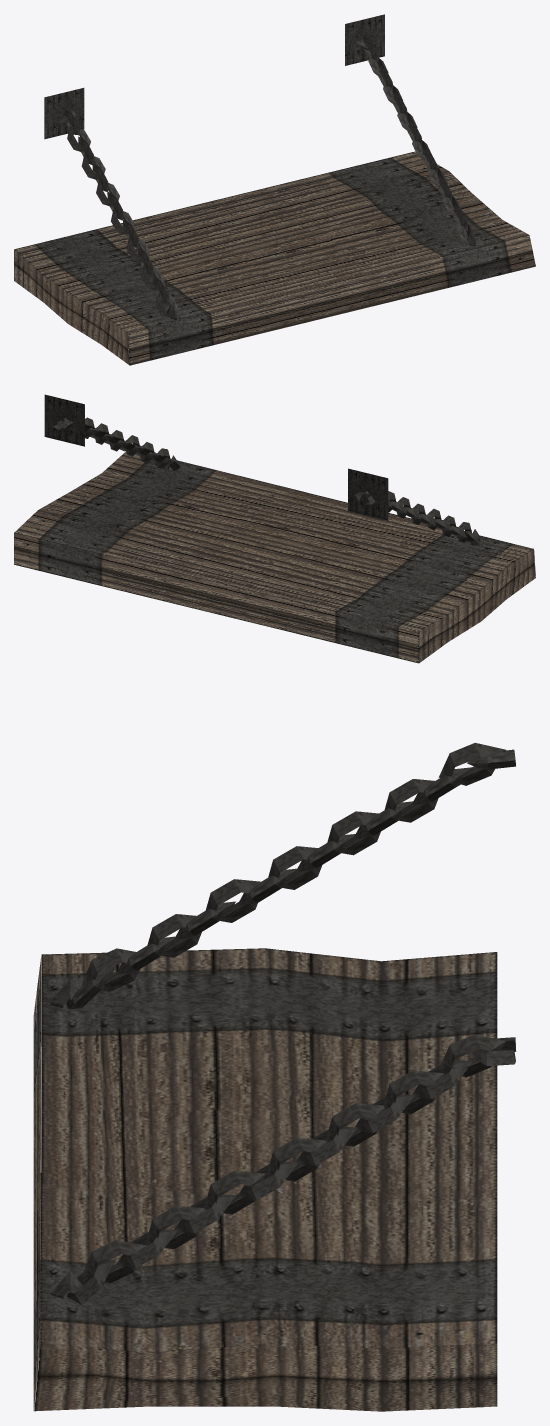
File: Bed_Dungeon.fbx
The picture shows the model from 3 angles, top to bottom: view 1: azimuth 30°, elevation 25°; view 2: azimuth 150°, elevation 25°; view 3: azimuth 270°, elevation 25°; orthographic projection. The views are drawn at different scales.
Visible parts, largest first — view 1: Bed_Dungeon; view 2: Bed_Dungeon; view 3: Bed_Dungeon.
Boxes of the visible parts, <box> form: Bed_Dungeon: <box>14,14,535,365</box>; Bed_Dungeon: <box>14,394,535,663</box>; Bed_Dungeon: <box>33,742,516,1411</box>.
Size of the model in its own units: 204 by 83.84 by 104.
1 material, 1 textured.
